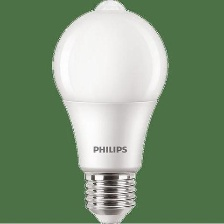light_bulb: (45, 0, 171, 224)
